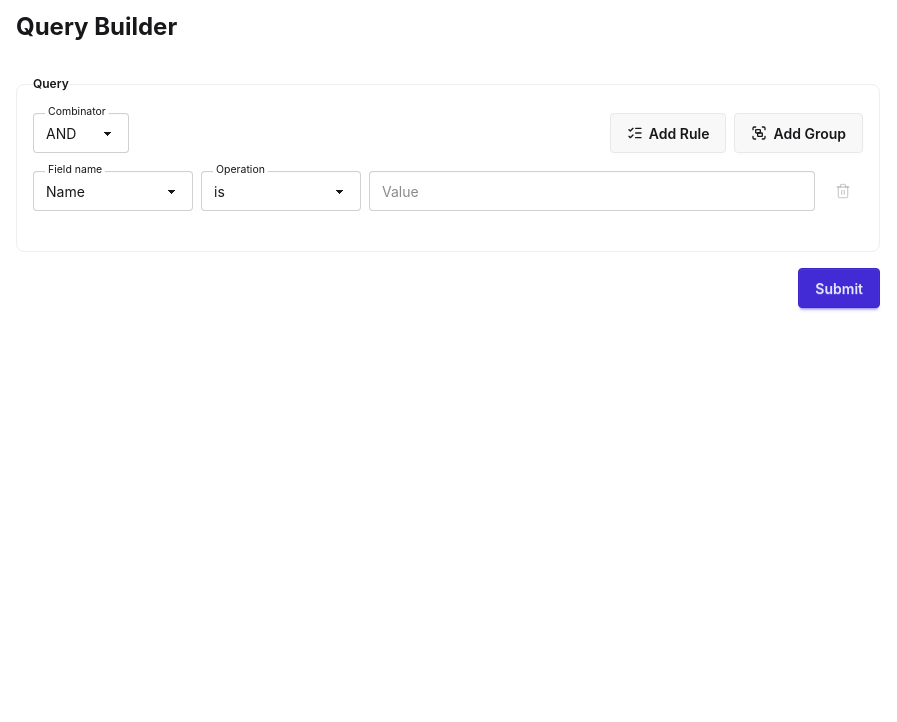
it: submitting the query › sends the chosen combinator
Type "john" into the field labelled "Value". click: (592, 191)
box: [369, 171, 815, 211]
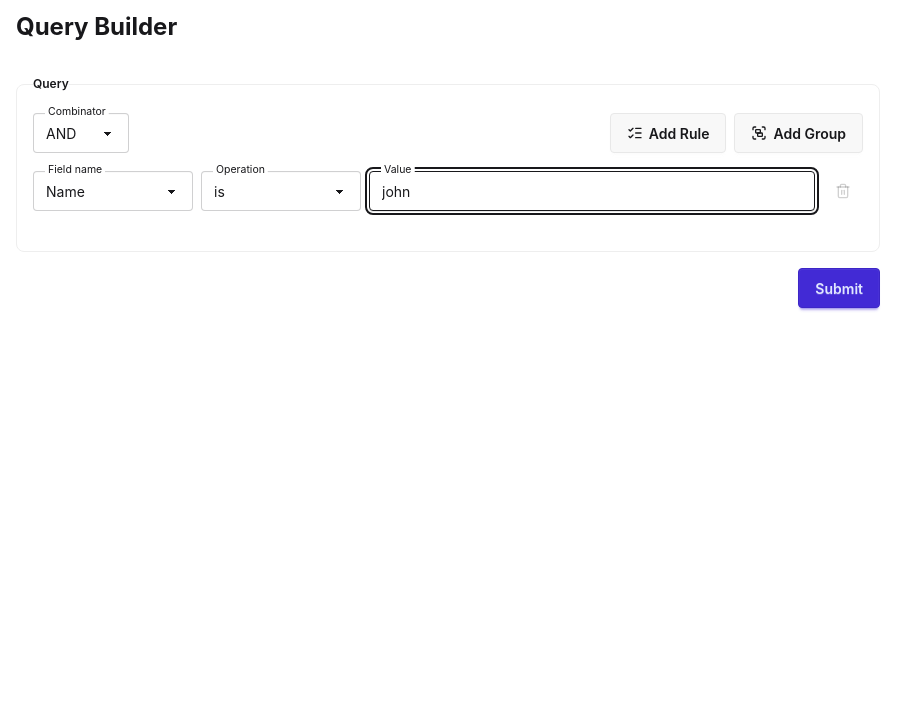
Select "OR" in the dropdown labelled "Combinator". click: (81, 133)
box: [33, 113, 129, 153]
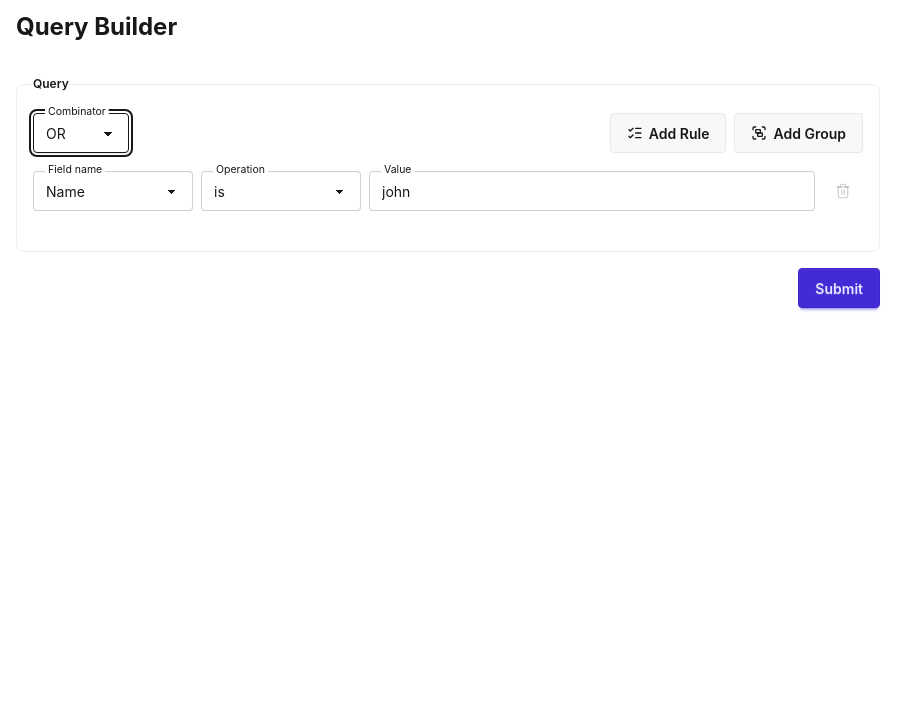
Click the button "Submit". click: (839, 288)
box: [798, 268, 880, 308]
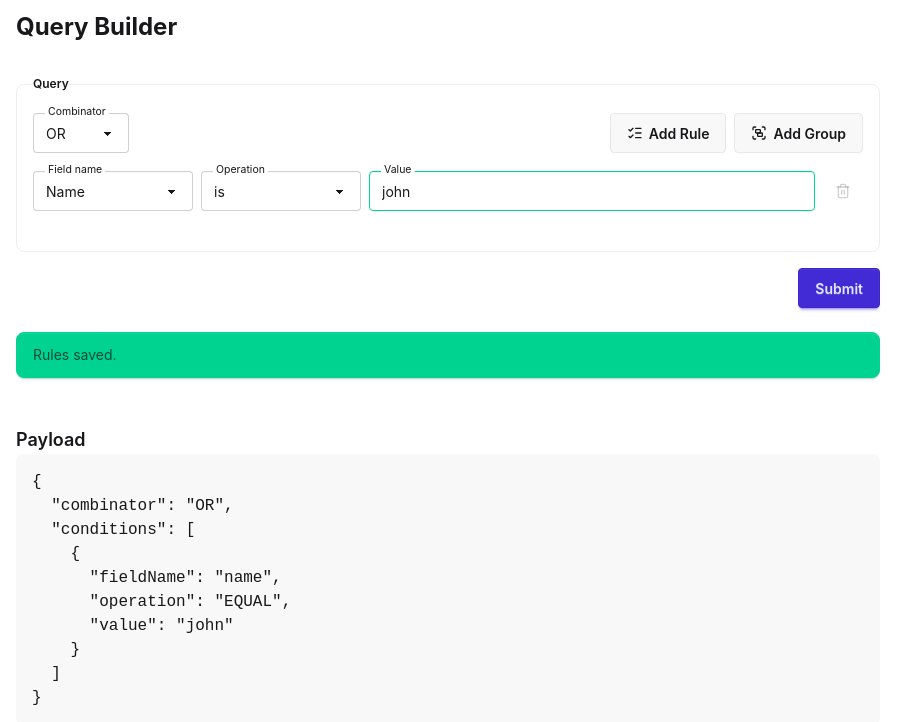
Check: the text "Rules saved." is shown, box [16, 332, 880, 378]
